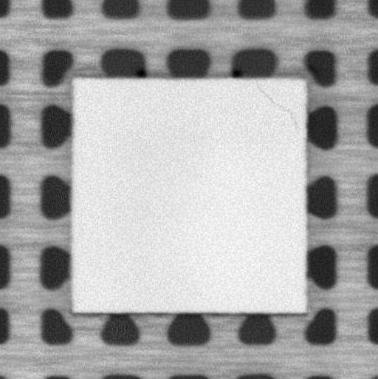DIE_CRACK: (254, 82, 299, 124)
